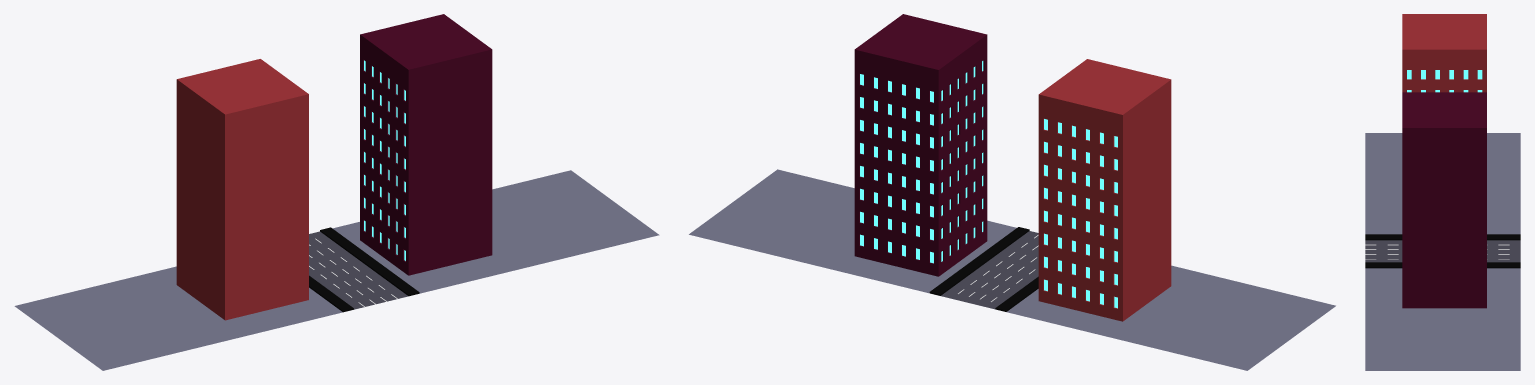
File: Road1.fbx
The picture shows the model from 3 angles, left to right: view 1: azimuth 30°, elevation 25°; view 2: azimuth 150°, elevation 25°; view 3: azimuth 270°, elevation 25°; orthographic projection. The views are drawn at different scales.
Visible parts, largest first — view 1: Building.002, Building.001, Ground, Road; view 2: Building.001, Building.002, Ground, Road; view 3: Ground, Building.002, Building.001, Road.
Part boxes in pixels (left/top/right/bottom): Building.002: left=360, top=14, right=492, bottom=275; Building.001: left=176, top=59, right=308, bottom=320; Ground: left=14, top=170, right=659, bottom=370; Road: left=309, top=227, right=419, bottom=312; Building.001: left=1038, top=59, right=1171, bottom=321; Building.002: left=854, top=14, right=987, bottom=276; Ground: left=689, top=169, right=1335, bottom=370; Road: left=929, top=227, right=1038, bottom=311; Ground: left=1365, top=133, right=1520, bottom=370; Building.002: left=1402, top=92, right=1486, bottom=308; Building.001: left=1402, top=14, right=1486, bottom=92; Road: left=1365, top=234, right=1520, bottom=268.
Size of the model in its own units: 19151 by 6769 by 5285.
